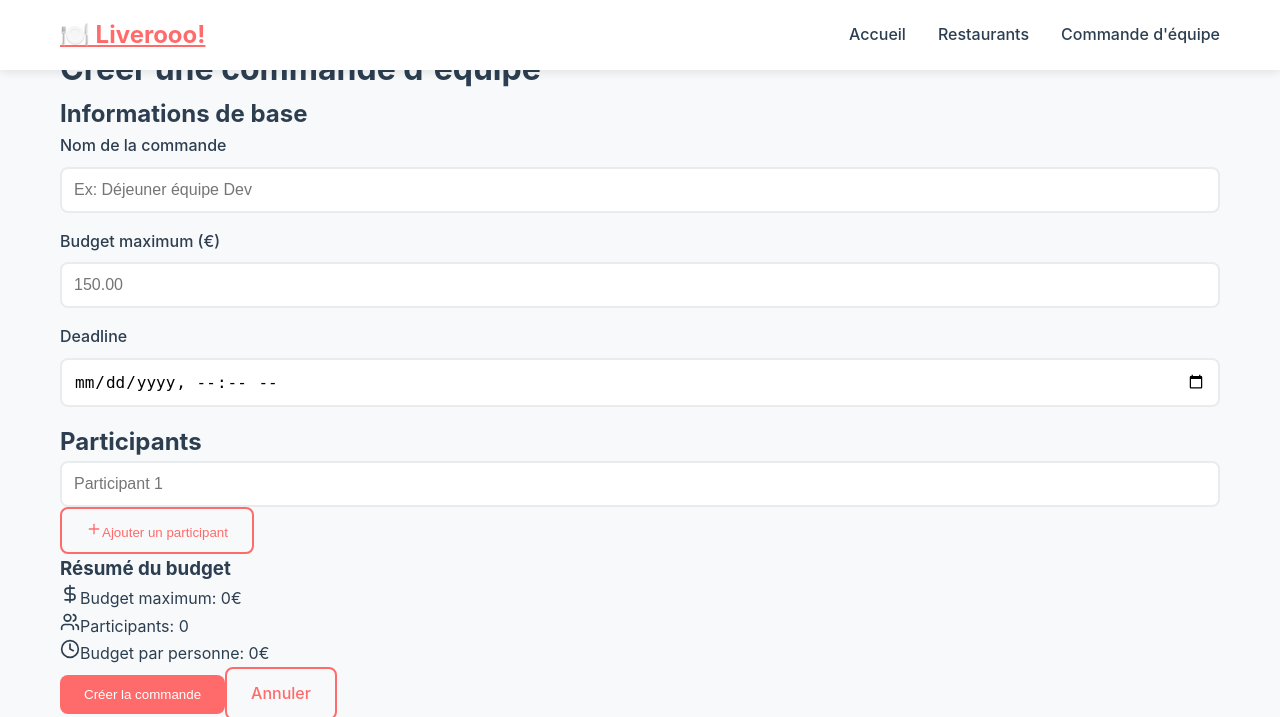
Team Order Page › should validate required fields
(page scrolled)
Click the submit button: (143, 695) 60,675 -> 225,714
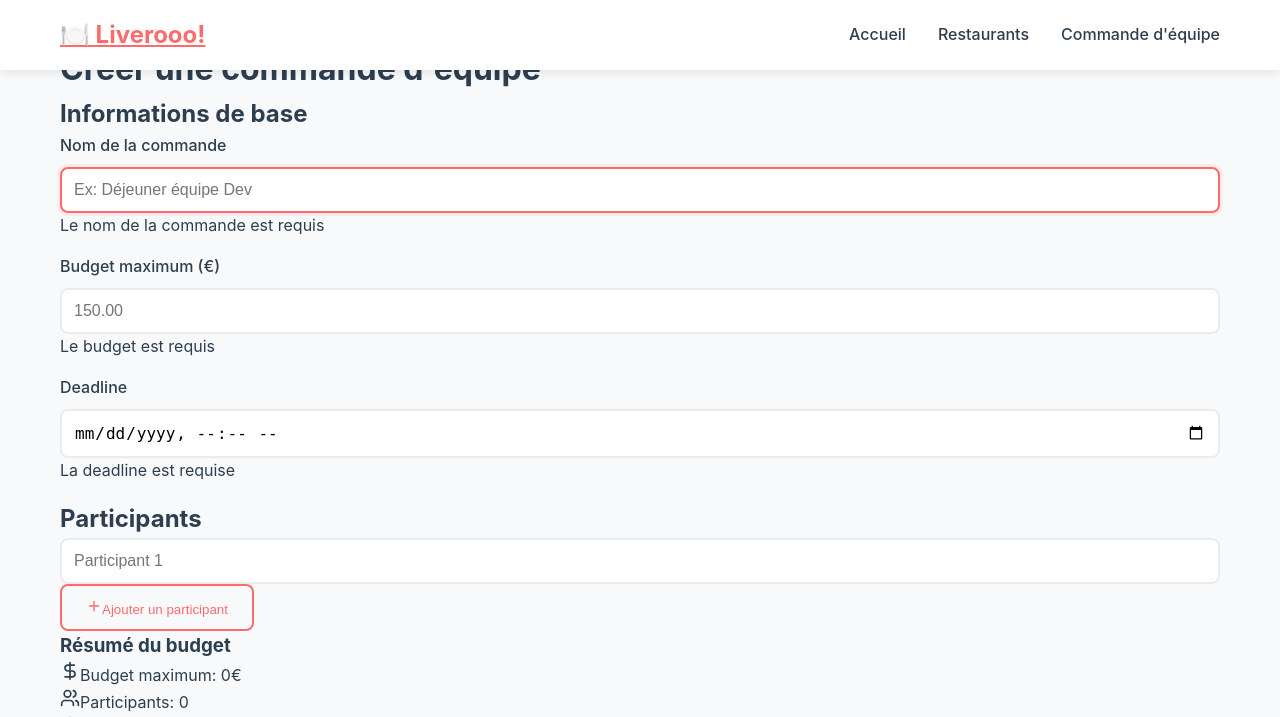
Result: the text "Le nom de la commande est requis" is shown at 60,215 -> 324,235
Result: the text "Le budget est requis" is shown at 60,336 -> 215,356
Result: the text "La deadline est requise" is shown at 60,460 -> 235,480
